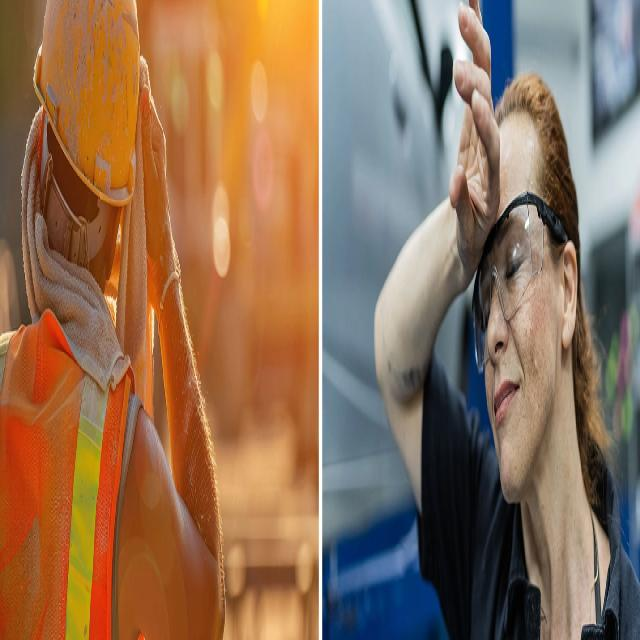Hard Hat: (25, 0, 144, 219)
Reflective Vest: (0, 285, 137, 640)
Safety Glasses: (461, 190, 575, 389)
